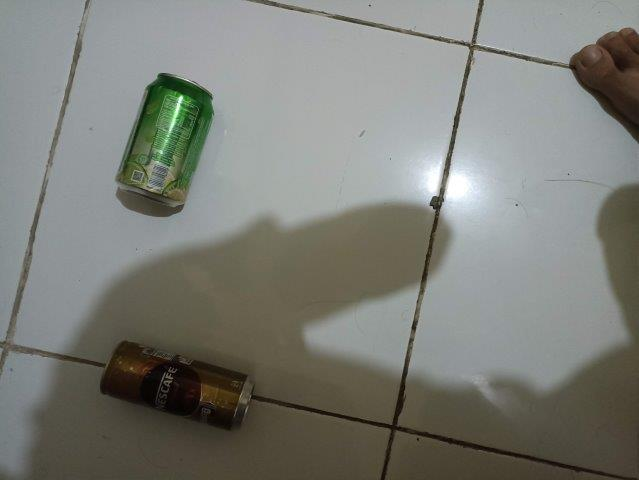kaleng: (99, 340, 256, 432), (114, 72, 214, 210)
